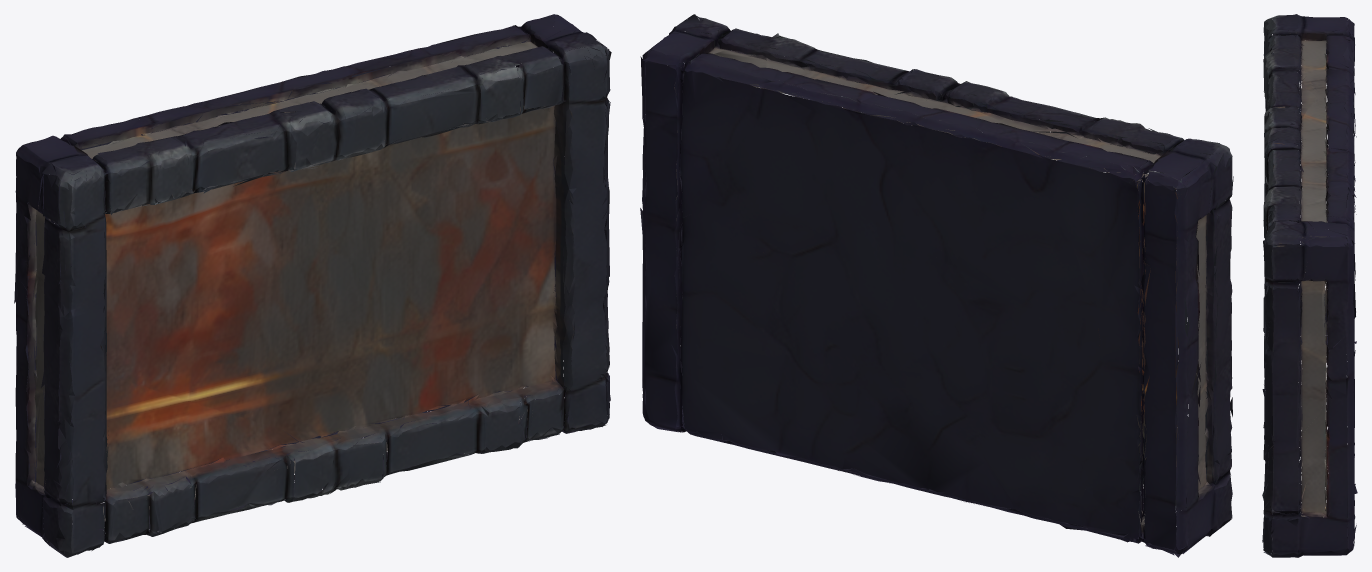
File: Forge_WallStraight.glb
3 renders of one model, left to right at view 1: azimuth 30°, elevation 25°; view 2: azimuth 150°, elevation 25°; view 3: azimuth 270°, elevation 25°, orthographic. The views are drawn at different scales.
Visible parts, largest first — view 1: Forge_WallStraight; view 2: Forge_WallStraight; view 3: Forge_WallStraight.
Part boxes in pixels (box(x1,y1,x2,y2)): Forge_WallStraight: box(14, 14, 611, 557); Forge_WallStraight: box(640, 14, 1233, 557); Forge_WallStraight: box(1262, 14, 1357, 557).
Bounding box in the file's own units: 4.54 × 3.03 × 0.8052.
Materials: 1 (1 with a texture image).
